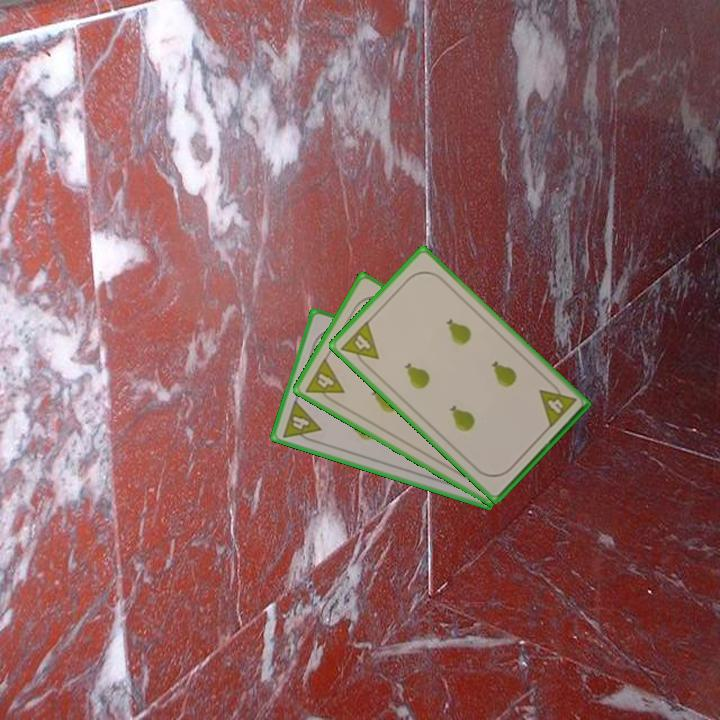4p: (301, 354, 347, 408), (337, 317, 382, 372), (535, 377, 579, 431), (279, 397, 324, 446)
